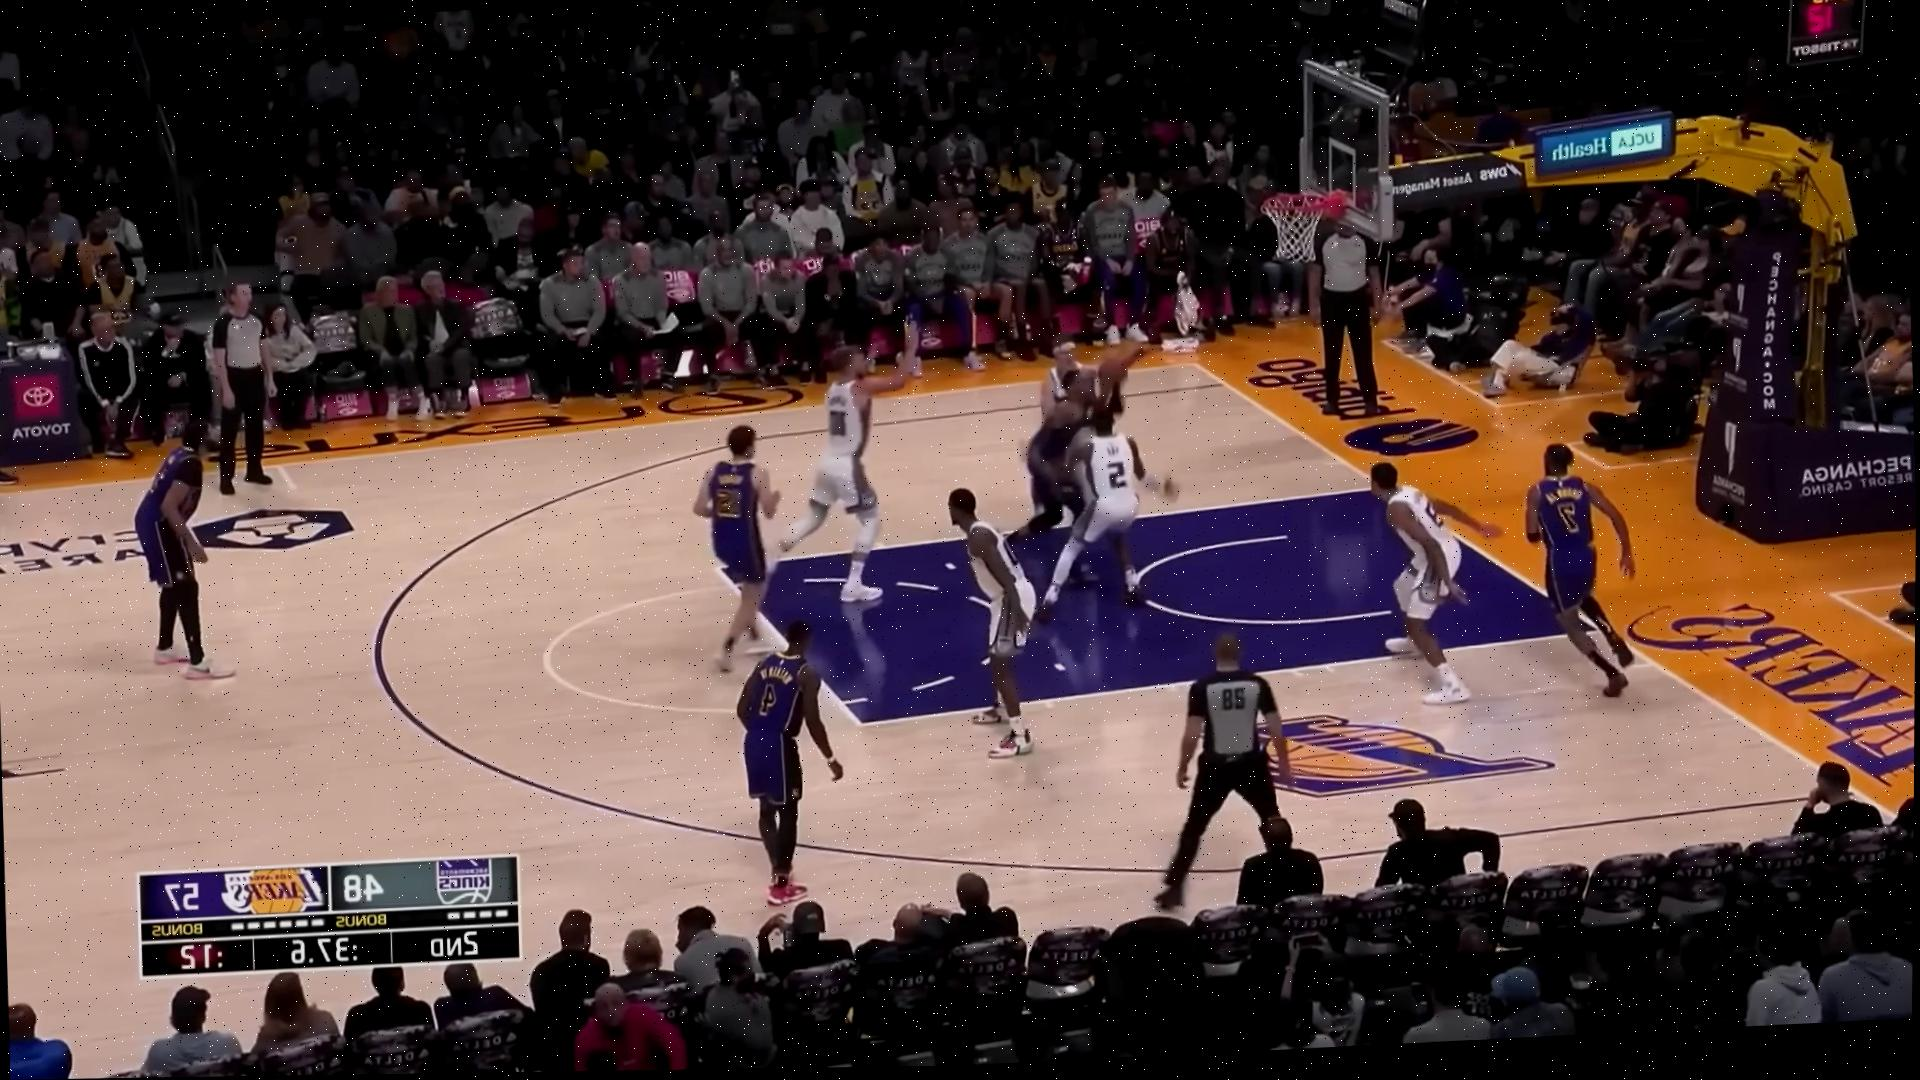foul: (1022, 324, 1172, 597)
